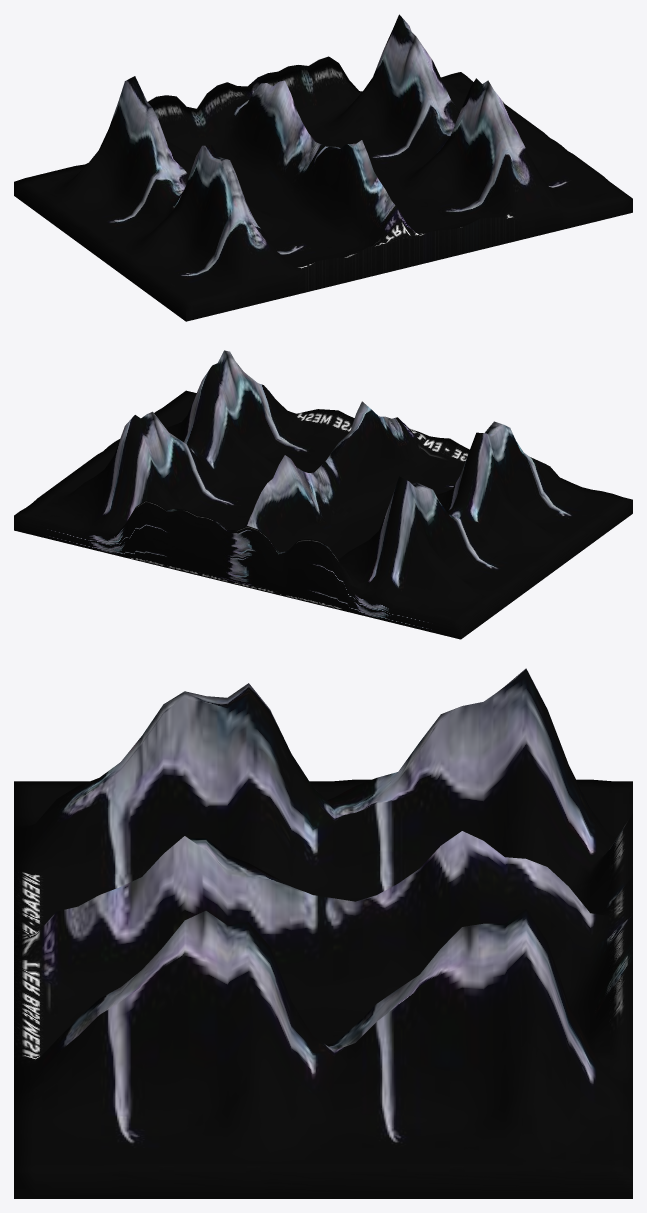
The model's file is BASE_03_Average_Mesh.glb.
The picture shows the model from 3 angles, top to bottom: view 1: azimuth 30°, elevation 25°; view 2: azimuth 150°, elevation 25°; view 3: azimuth 270°, elevation 25°; orthographic projection. The views are drawn at different scales.
Visible parts, largest first — view 1: BASE_03_Average_Mesh; view 2: BASE_03_Average_Mesh; view 3: BASE_03_Average_Mesh.
Boxes of the visible parts, x1,y1,x2,y2 form: BASE_03_Average_Mesh: [14, 14, 632, 321]; BASE_03_Average_Mesh: [14, 350, 632, 639]; BASE_03_Average_Mesh: [14, 668, 632, 1198].
Bounding box in the file's own units: 2 × 0.51 × 1.33.
Materials: 1 (1 with a texture image).
